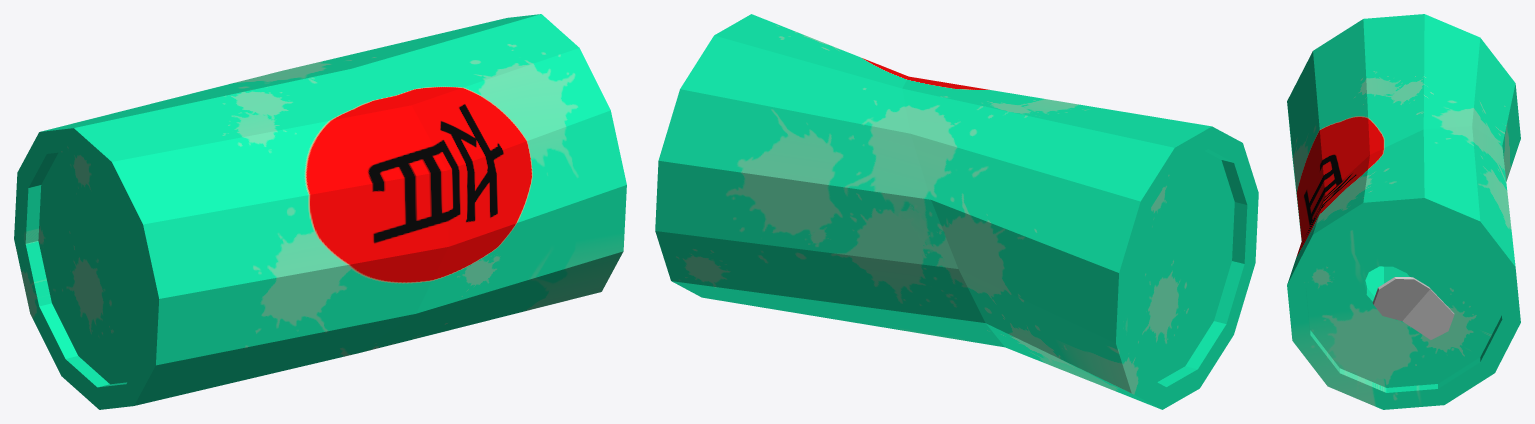
The model's file is LatinhaDeRefrigerante.fbx.
The picture shows the model from 3 angles, left to right: view 1: azimuth 30°, elevation 25°; view 2: azimuth 150°, elevation 25°; view 3: azimuth 270°, elevation 25°; orthographic projection. The views are drawn at different scales.
Parts seen in each view (by area): view 1: Latinha; view 2: Latinha; view 3: Latinha.
Part boxes in pixels (x1=…): Latinha: x1=14, y1=14, x2=626, y2=409; Latinha: x1=655, y1=14, x2=1258, y2=409; Latinha: x1=1287, y1=14, x2=1520, y2=409.
Bounding box in the file's own units: 16.58 × 8.69 × 8.69.
